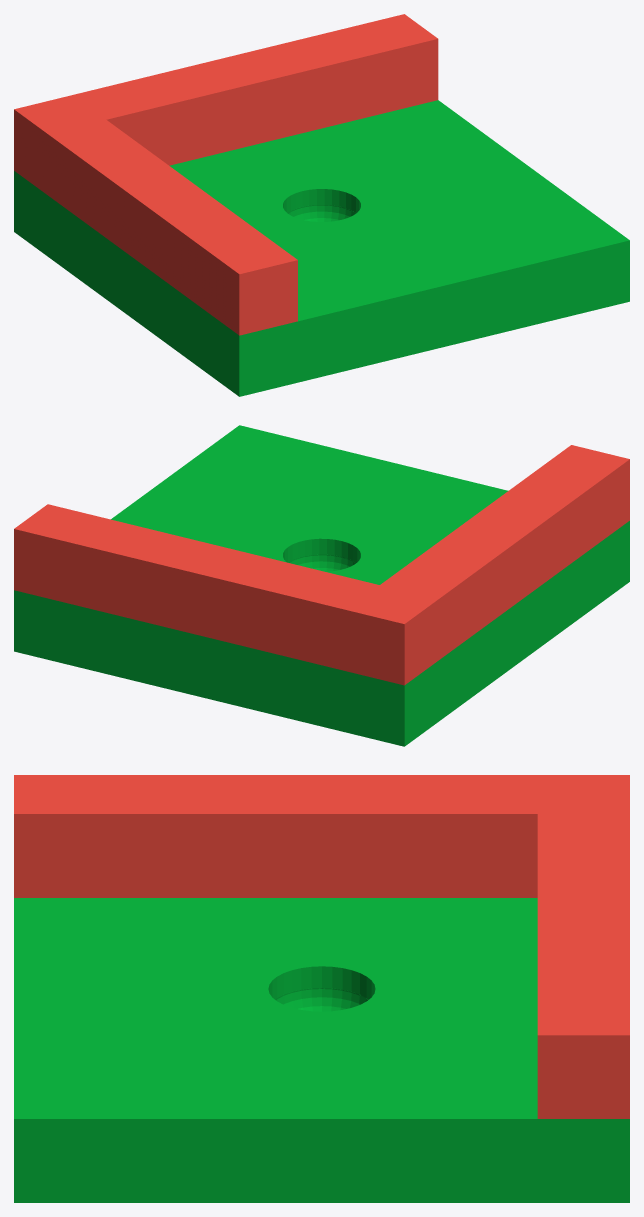
Rendered from hole_corner.fbx.
3 views of the same model, one above another, from view 1: azimuth 30°, elevation 25°; view 2: azimuth 150°, elevation 25°; view 3: azimuth 270°, elevation 25° (orthographic). The views are drawn at different scales.
Parts seen in each view (by area): view 1: Green, Cube, Cube.001; view 2: Green, Cube, Cube.001; view 3: Green, Cube.001, Cube.
Boxes of the visible parts, x1,y1,x2,y2 form: Green: (14,100,629,396); Cube: (14,14,438,189); Cube.001: (14,117,297,335); Green: (14,425,629,746); Cube: (14,504,438,685); Cube.001: (346,445,629,681); Green: (14,898,629,1202); Cube.001: (14,775,537,897); Cube: (537,775,629,1118).
Size of the model in its own units: 200 by 60 by 200.
